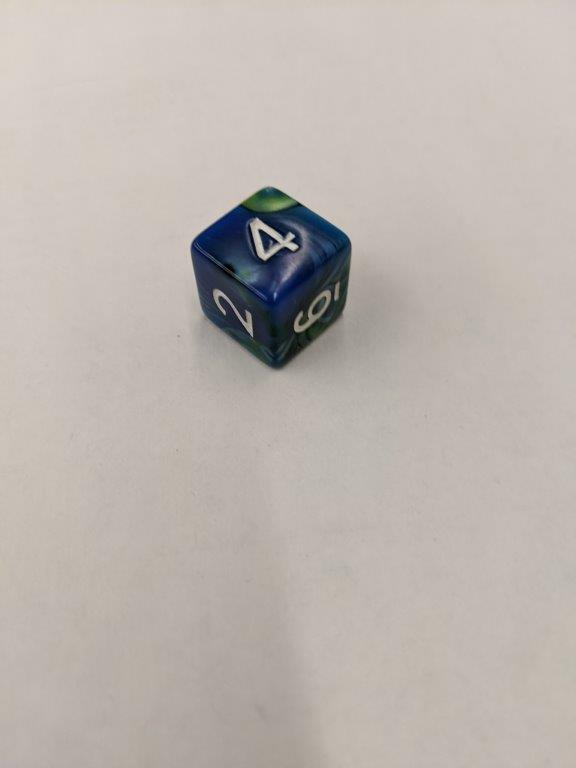d6-4: (191, 186, 353, 371)
